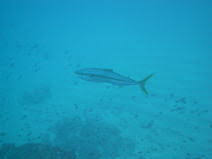hamati: (71, 63, 150, 103)
